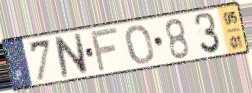3: (193, 12, 223, 56)
7: (28, 39, 54, 83)
8: (164, 17, 190, 60)
F: (89, 25, 121, 74)
N: (53, 31, 90, 79)
O: (124, 23, 155, 66)
